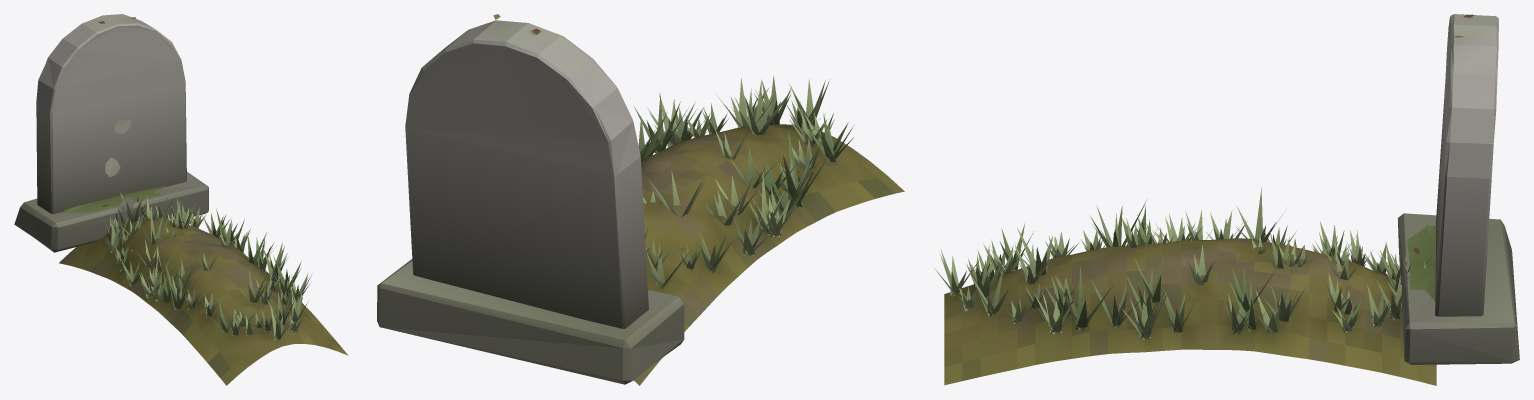
The model's file is grave_round.glb.
3 views of the same model, side by side, from view 1: azimuth 30°, elevation 25°; view 2: azimuth 150°, elevation 25°; view 3: azimuth 270°, elevation 25° (orthographic). The views are drawn at different scales.
Visible parts, largest first — view 1: grave_round; view 2: grave_round; view 3: grave_round.
Boxes of the visible parts, x1,y1,x2,y2 form: grave_round: [14, 14, 348, 385]; grave_round: [377, 14, 904, 385]; grave_round: [934, 14, 1519, 385].
Size of what is drawn, in the model's own units: 1.5 by 1.95 by 3.22.
